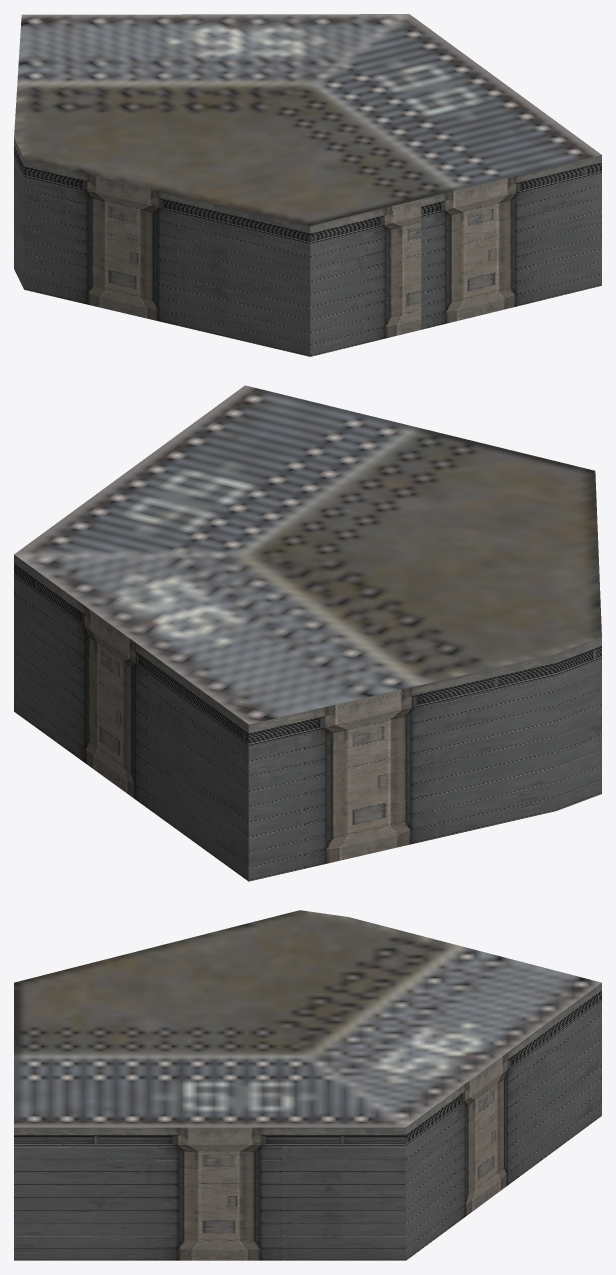
Rendered from hangar_heavy_56.glb.
3 views of the same model, one above another, from view 1: azimuth 30°, elevation 25°; view 2: azimuth 150°, elevation 25°; view 3: azimuth 270°, elevation 25° (orthographic). The views are drawn at different scales.
Parts seen in each view (by area): view 1: buildings/saxarba/hangar_heavy/hangar_heavy_56; view 2: buildings/saxarba/hangar_heavy/hangar_heavy_56; view 3: buildings/saxarba/hangar_heavy/hangar_heavy_56.
Part boxes in pixels (left/top/right/bottom): buildings/saxarba/hangar_heavy/hangar_heavy_56: left=14, top=14, right=601, bottom=356; buildings/saxarba/hangar_heavy/hangar_heavy_56: left=14, top=385, right=601, bottom=881; buildings/saxarba/hangar_heavy/hangar_heavy_56: left=14, top=910, right=601, bottom=1260.
Bounding box in the file's own units: 63 × 18 × 72.
